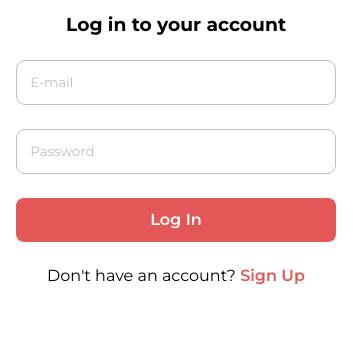
Test case: Auth form › should NOT allow to submit empty form
What coordinates should you click on to do the following:
click the button
I would click on:
 (176, 220)
Its box is [16,198,336,242].
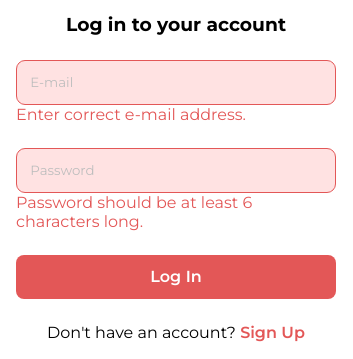
Check: the text "Password should be at least 6 characters long." is shown, box [16,193,252,231]
